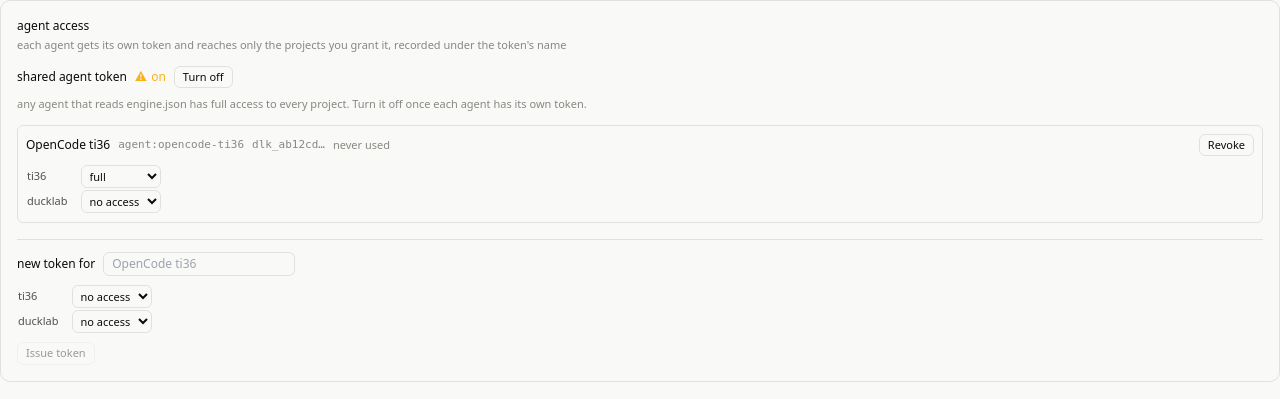
agent access › turns the shared token off
Expected: the list item with test id "agent-token-at_1" is shown, top-left (17, 124), bottom-right (1263, 223)
Click the button with test id "agent-access-legacy-toggle" at (203, 77), box top-left (174, 66), bottom-right (233, 88)
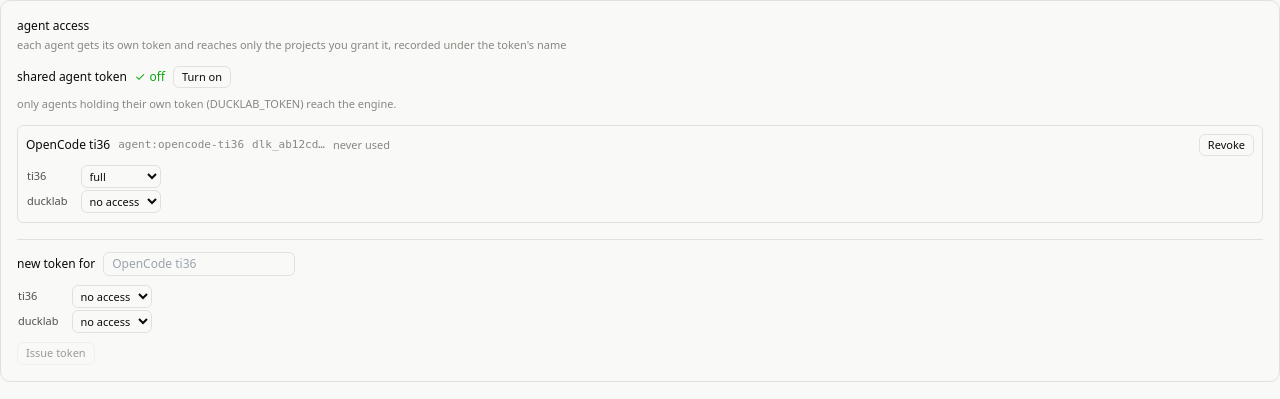
Result: the element with test id "agent-access-legacy" shows "only agents holding their own token" at top-left (17, 96), bottom-right (396, 111)
